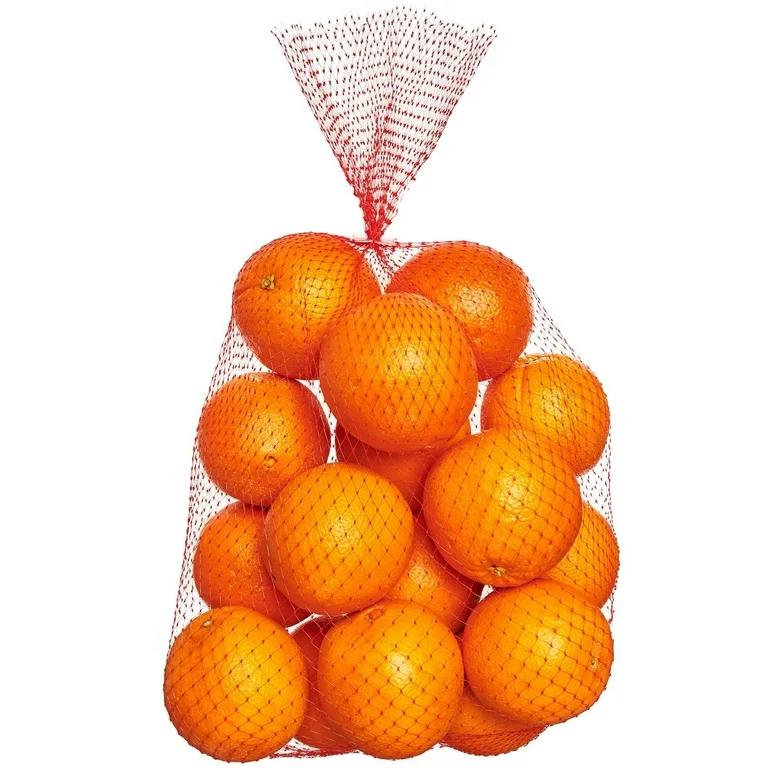orange: (304, 597, 465, 761), (272, 447, 428, 614), (454, 574, 611, 728), (161, 604, 313, 759), (446, 446, 599, 581), (352, 299, 477, 442), (236, 239, 362, 376), (487, 352, 627, 467), (206, 381, 326, 508)
